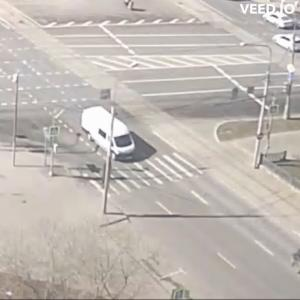car: (81, 104, 137, 161), (274, 36, 300, 56), (263, 16, 294, 27)
